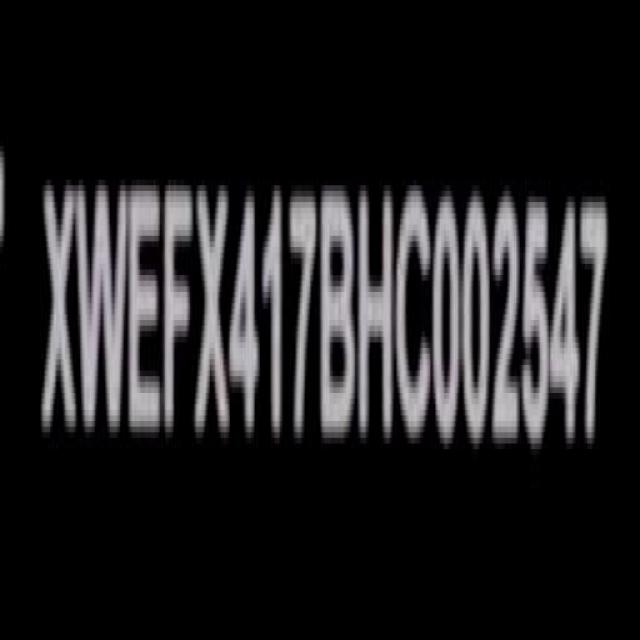0: (431, 182, 463, 452), (462, 182, 493, 454)
1: (260, 179, 287, 446)
2: (492, 188, 524, 457)
4: (228, 184, 260, 452), (548, 191, 580, 455)
5: (520, 187, 552, 458)
7: (289, 181, 321, 452), (580, 188, 612, 455)
B: (321, 181, 357, 450)
C: (395, 182, 435, 452)
E: (128, 178, 164, 447)
F: (160, 177, 198, 450)
H: (357, 181, 398, 448)
W: (76, 174, 132, 448)
X: (37, 178, 79, 448), (194, 182, 232, 447)
